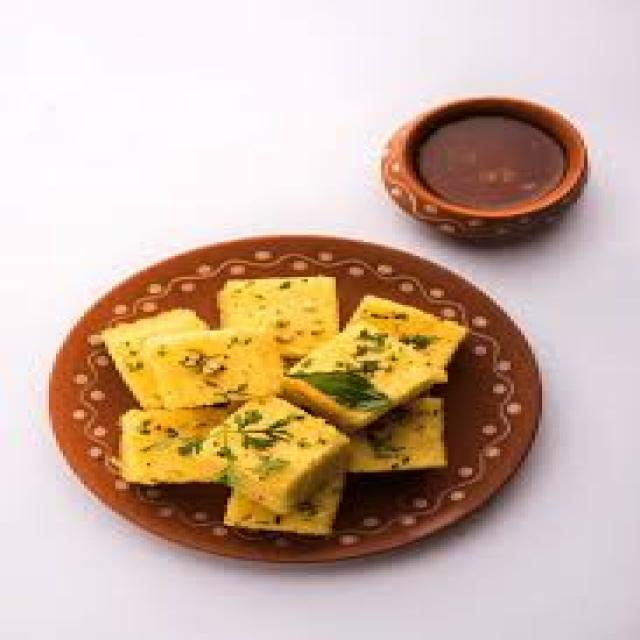DHOKLA: (101, 277, 462, 533)
